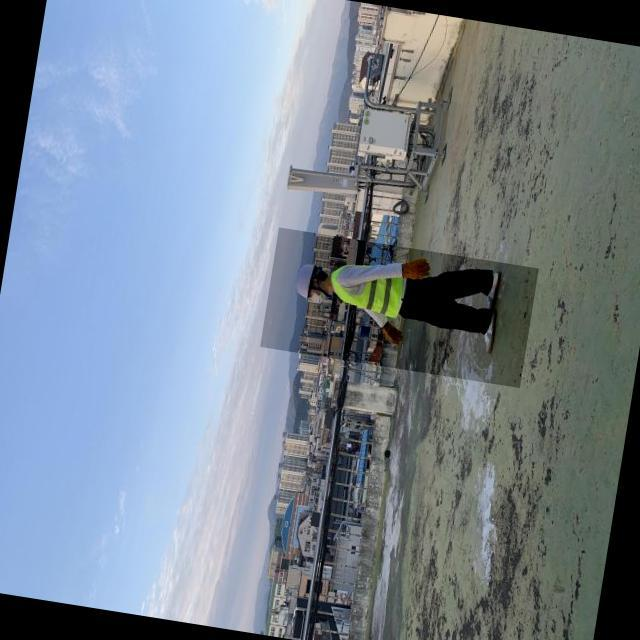Gloves: (401, 254, 437, 284), (376, 322, 410, 348)
Helmet: (289, 260, 323, 307)
Person: (277, 244, 523, 369)
Safety Boot: (482, 271, 509, 317), (478, 314, 503, 359)
Safety Vest: (328, 255, 418, 318)
